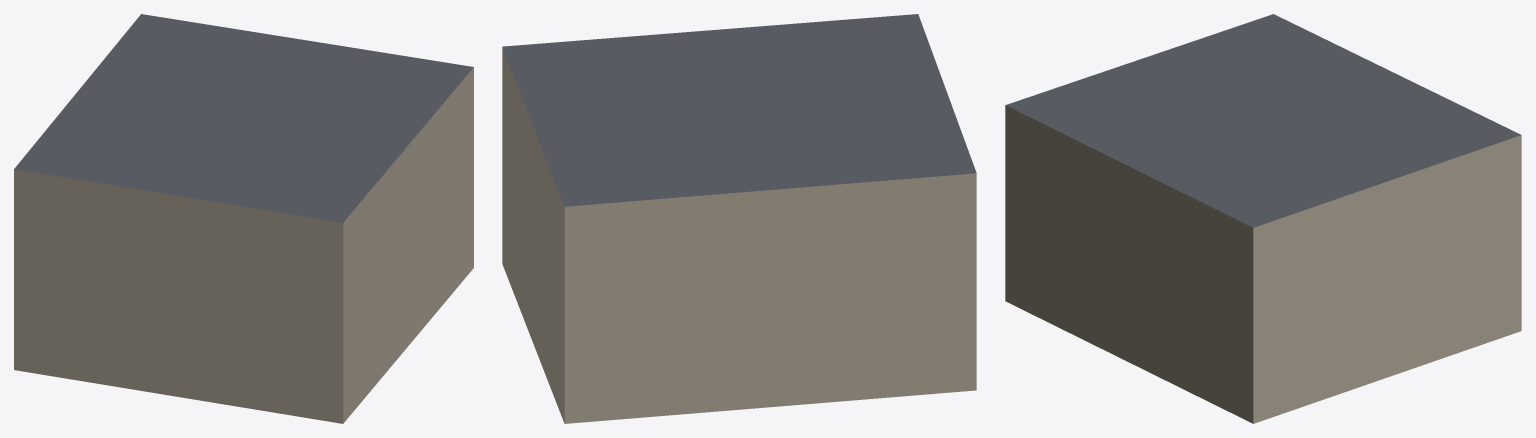
3 views of the same model, side by side, from view 1: azimuth 30°, elevation 25°; view 2: azimuth 150°, elevation 25°; view 3: azimuth 270°, elevation 25° (orthographic). The views are drawn at different scales.
Visible parts, largest first — view 1: tuile; view 2: tuile; view 3: tuile.
Boxes of the visible parts, x1=… form: tuile: x1=14, y1=14, x2=473, y2=423; tuile: x1=502, y1=14, x2=976, y2=423; tuile: x1=1005, y1=14, x2=1521, y2=423.
Bounding box in the file's own units: 25.1 × 10.73 × 25.6.
